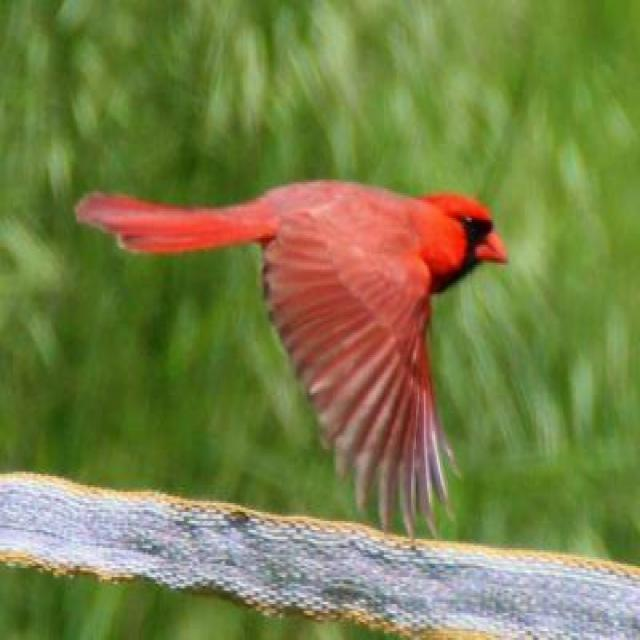birds: (59, 160, 523, 539)
